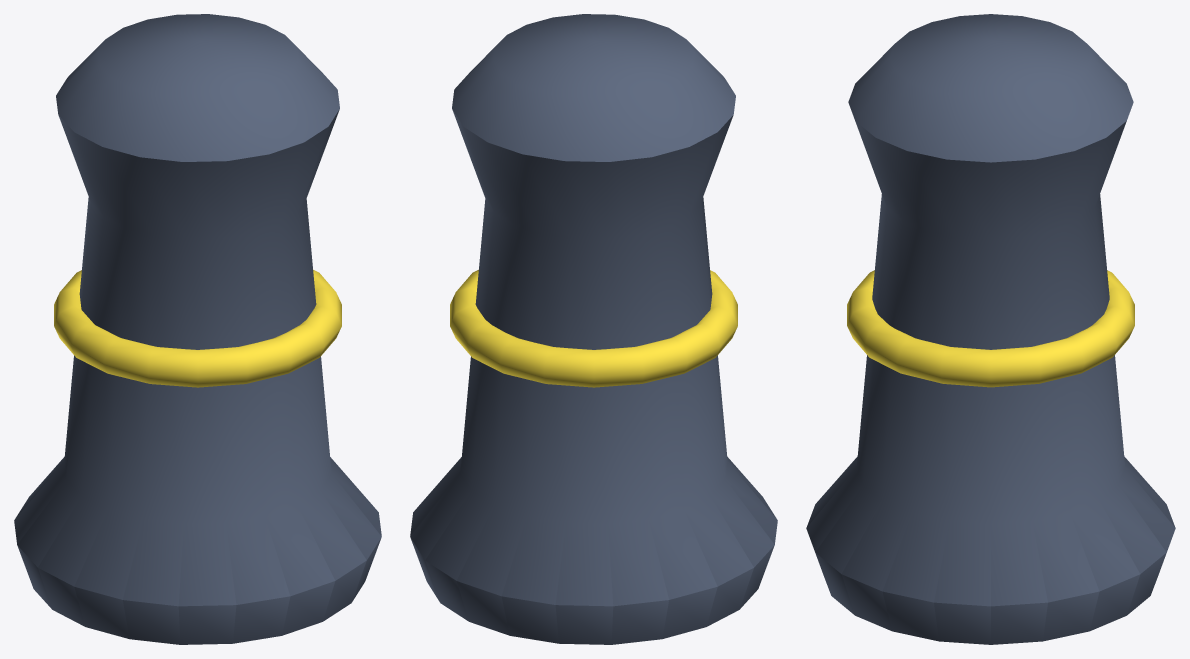
Rendered from hero-shooter-harbour-payload-quay-bollard-f41b9701.glb.
The picture shows the model from 3 angles, left to right: view 1: azimuth 30°, elevation 25°; view 2: azimuth 150°, elevation 25°; view 3: azimuth 270°, elevation 25°; orthographic projection.
Parts seen in each view (by area): view 1: quay-bollard; view 2: quay-bollard; view 3: quay-bollard.
Part boxes in pixels (x1,y1,x2,y2): quay-bollard: [14, 14, 381, 644]; quay-bollard: [410, 14, 777, 644]; quay-bollard: [806, 14, 1175, 644].
Size of the model in its own units: 0.44 by 0.7 by 0.44.
